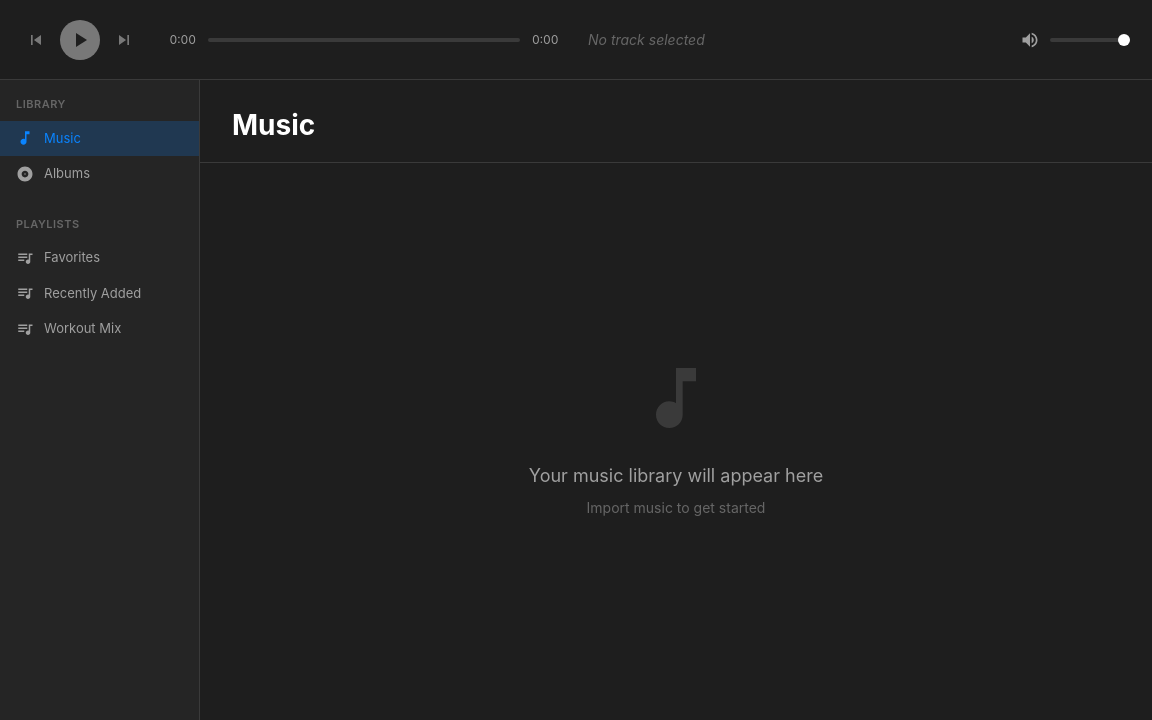
Test: App Component › View Navigation › can navigate back to Music from other views
# Go to Albums
Click the button "Albums" at (53, 174), box [16,165,90,183]
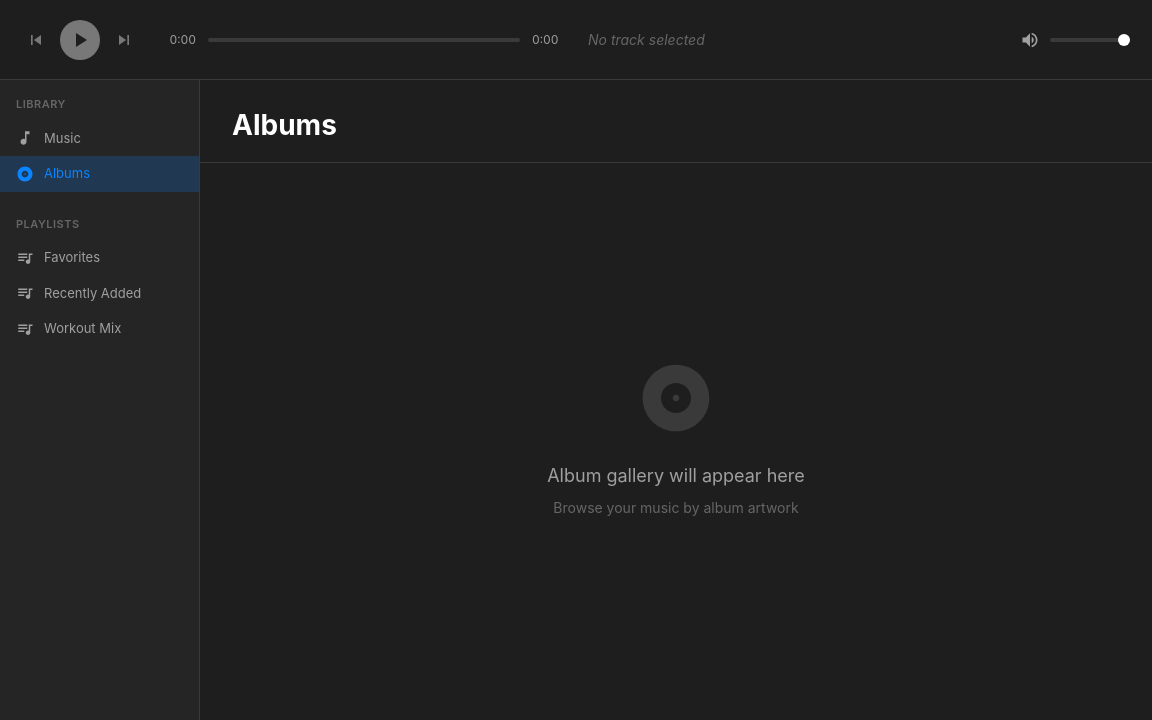
expect the heading "Albums" is shown: met, box [232,104,337,146]
# Go back to Music
Click the button "Music" at (48, 138), box [16,129,81,147]
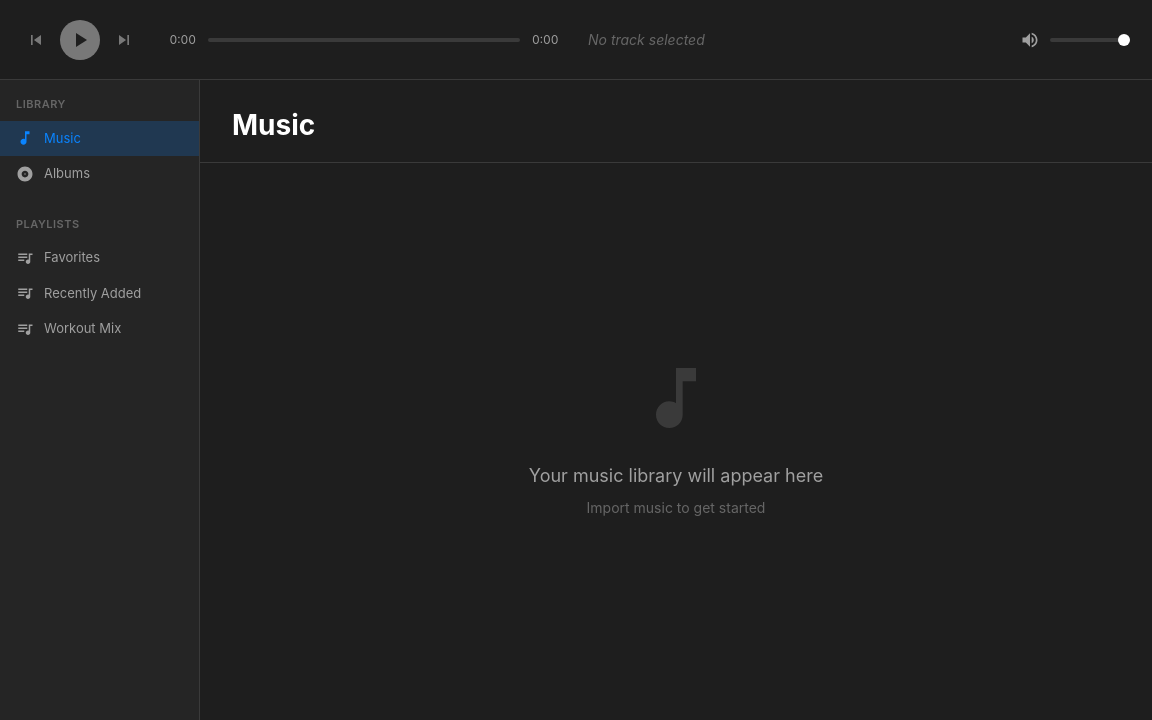
expect the heading "Music" is shown: met, box [232,104,315,146]
